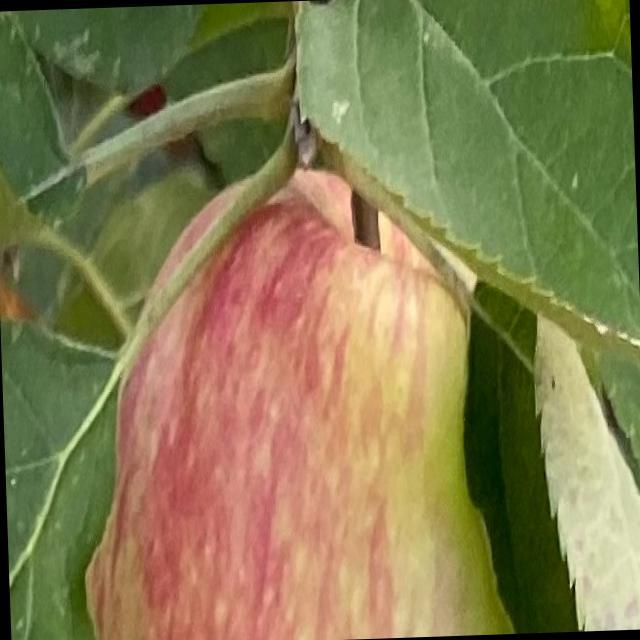100-_ripeness: (71, 160, 513, 639)
